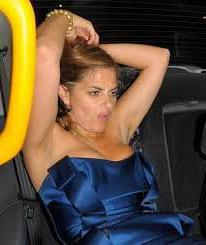Drunk: (74, 62, 115, 131)
